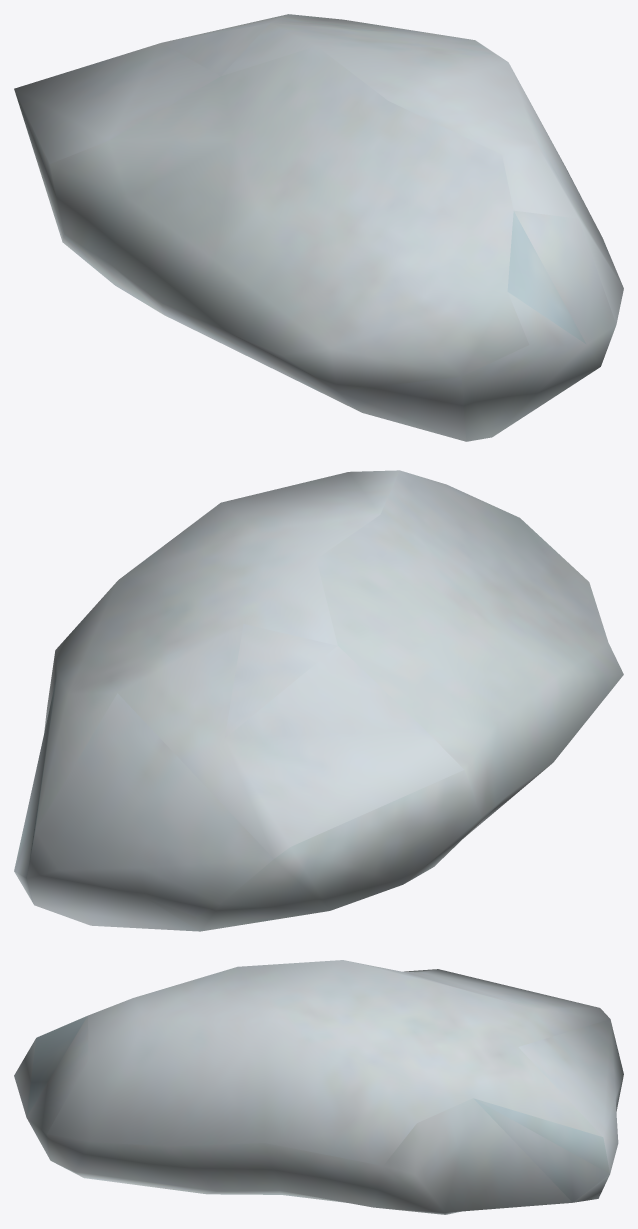
File: P_RockClassic8.obj
The picture shows the model from 3 angles, top to bottom: view 1: azimuth 30°, elevation 25°; view 2: azimuth 150°, elevation 25°; view 3: azimuth 270°, elevation 25°; orthographic projection. The views are drawn at different scales.
Bounding box in the file's own units: 1.78 × 1.08 × 2.77.
